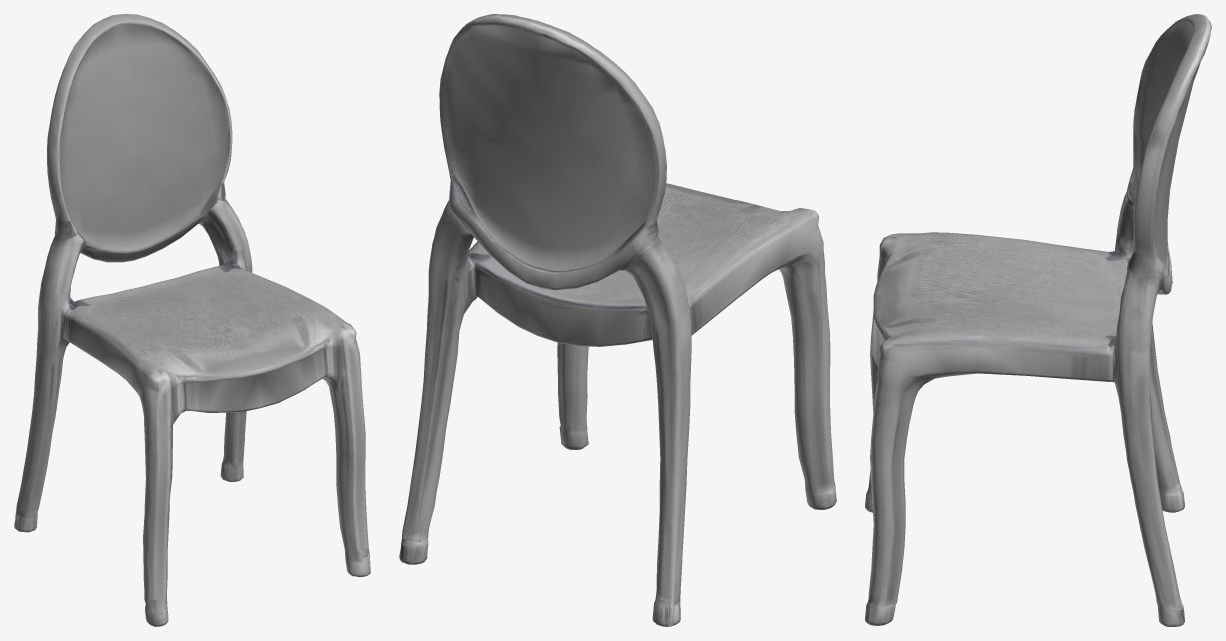
The model's file is Sofia_Clear_Wide_Seat_0320031439_texture.glb.
The picture shows the model from 3 angles, left to right: view 1: azimuth 30°, elevation 25°; view 2: azimuth 150°, elevation 25°; view 3: azimuth 270°, elevation 25°; orthographic projection. The views are drawn at different scales.
Parts seen in each view (by area): view 1: Mesh_0.004; view 2: Mesh_0.004; view 3: Mesh_0.004.
Part boxes in pixels (<box>): Mesh_0.004: <box>14,14,370,626</box>; Mesh_0.004: <box>399,14,836,626</box>; Mesh_0.004: <box>865,14,1211,626</box>.
Bounding box in the file's own units: 0.4525 × 0.9144 × 0.5295.
Materials: 1 (1 with a texture image).
